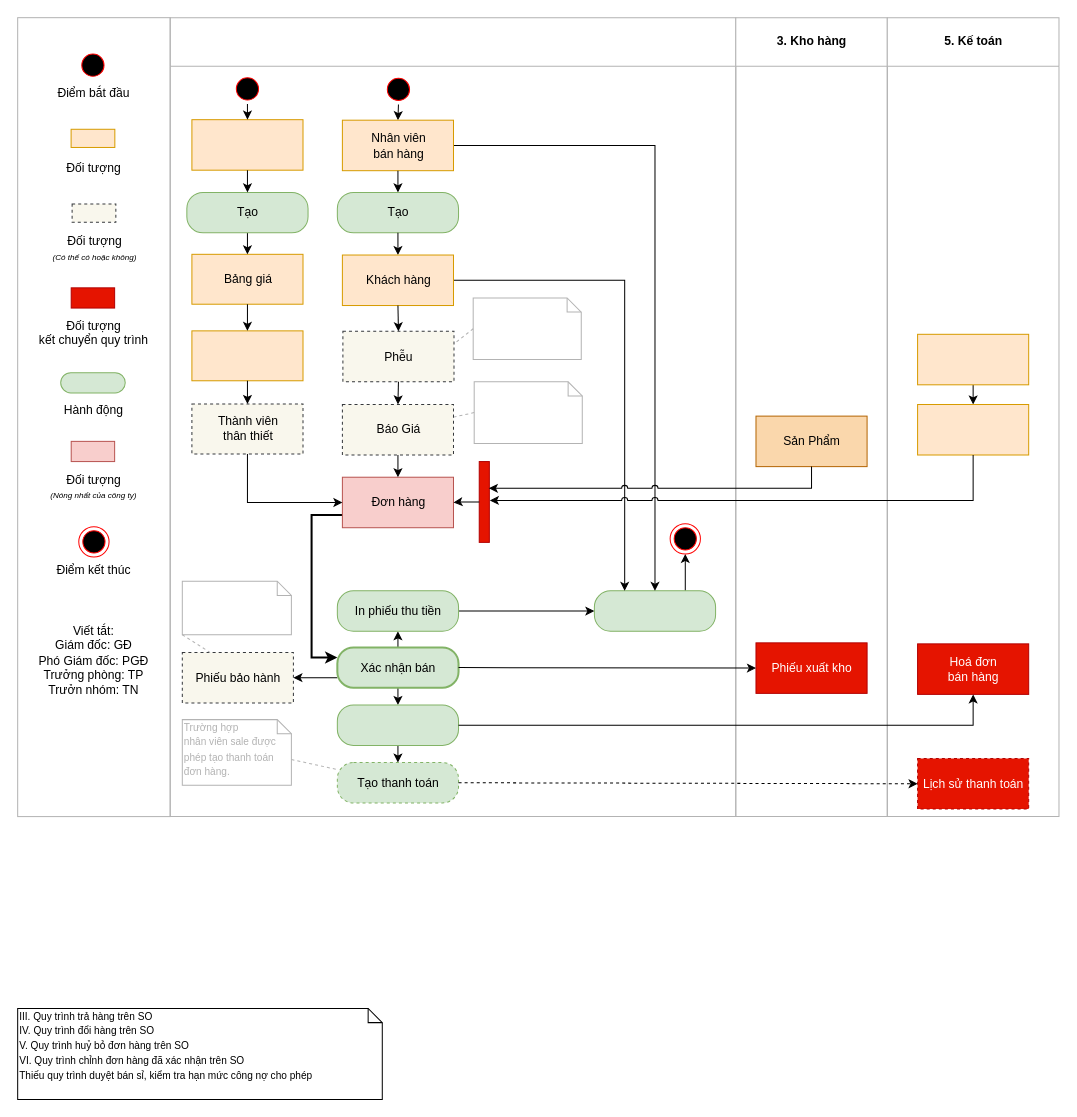
This 1077x1117 diagram has some shape labels left out. Here are the shapes that lost their labels. From the top down, the box of each, then its label:
(191, 119, 303, 170): GĐ/TP kinh doanh
(472, 297, 581, 360): Dùng khi tư vấn và chăm sóc qua nhiều giai đoạn để chốt được đơn hàng
(191, 330, 303, 381): Chương trình khuyến mãi
(917, 333, 1029, 385): Thuế
(169, 17, 736, 817): 2. Bán hàng >> 1. Quy trình bán hàng
(473, 381, 582, 443): Có thể làm báo giá ở ngoài hoặc trên hệ thống tuỳ vào nội dung gửi cho Khách
(917, 403, 1029, 455): Phương thức thanh toán
(181, 580, 291, 635): Trường hợp sản phẩm có kích hoạt quản lý bảo hành.
(593, 590, 716, 631): Ký tên
(336, 704, 459, 745): Tạo hoá đơn
